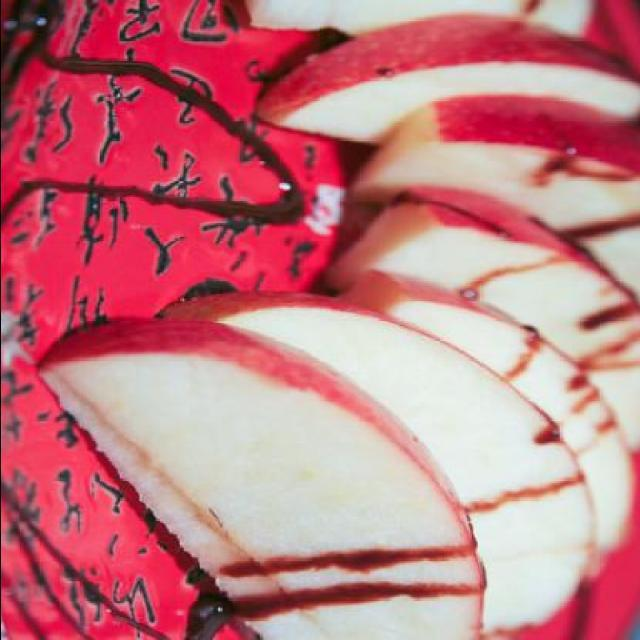Apple pie: (152, 0, 640, 640), (45, 311, 463, 600)
